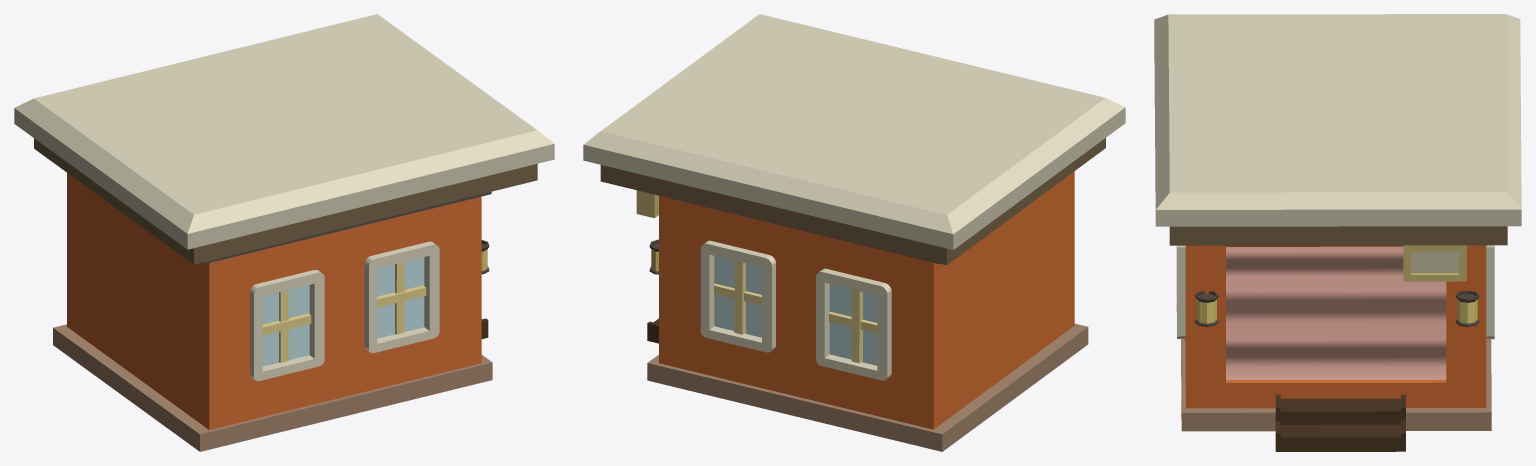
Rendered from small_house.fbx.
The picture shows the model from 3 angles, left to right: view 1: azimuth 30°, elevation 25°; view 2: azimuth 150°, elevation 25°; view 3: azimuth 270°, elevation 25°; orthographic projection. The views are drawn at different scales.
Visible parts, largest first — view 1: eaves1, polySurface342, floor, window_frame1, window_frame, window5, window6, eaves2, Window_strip6, Window_strip8, Window_strip7, Window_strip5; view 2: eaves1, polySurface342, floor, window_frame3, window_frame2, window4, window1, Window_strip2, Window_strip4, House_number; view 3: eaves1, iron_gate, polySurface341, floor, stairs, stairs2, House_number, window_frame1, window_frame2, lamp2, lamp4.
Part boxes in pixels (bbox=[...]): eaves1: bbox=[14, 14, 554, 264]; polySurface342: bbox=[67, 173, 481, 429]; floor: bbox=[53, 324, 492, 451]; window_frame1: bbox=[364, 241, 439, 353]; window_frame: bbox=[250, 270, 324, 381]; window5: bbox=[262, 285, 309, 366]; window6: bbox=[377, 257, 424, 338]; eaves2: bbox=[200, 191, 491, 264]; Window_strip6: bbox=[279, 290, 288, 362]; Window_strip8: bbox=[395, 262, 404, 334]; Window_strip7: bbox=[377, 285, 426, 307]; Window_strip5: bbox=[262, 313, 311, 335]; eaves1: bbox=[583, 14, 1125, 265]; polySurface342: bbox=[659, 171, 1074, 429]; floor: bbox=[647, 323, 1088, 451]; window_frame3: bbox=[816, 268, 891, 380]; window_frame2: bbox=[700, 240, 775, 352]; window4: bbox=[829, 284, 877, 365]; window1: bbox=[714, 256, 761, 337]; Window_strip2: bbox=[734, 261, 745, 334]; Window_strip4: bbox=[851, 289, 862, 363]; House_number: bbox=[636, 190, 658, 218]; eaves1: bbox=[1154, 14, 1521, 245]; iron_gate: bbox=[1226, 246, 1446, 379]; polySurface341: bbox=[1186, 245, 1486, 408]; floor: bbox=[1181, 339, 1491, 431]; stairs: bbox=[1275, 420, 1405, 451]; stairs2: bbox=[1275, 394, 1405, 424]; House_number: bbox=[1403, 245, 1466, 281]; window_frame1: bbox=[1176, 245, 1185, 338]; window_frame2: bbox=[1486, 245, 1494, 339]; lamp2: bbox=[1455, 291, 1479, 326]; lamp4: bbox=[1195, 291, 1218, 326].
Size of the model in its own units: 32.92 by 20.83 by 26.77.
